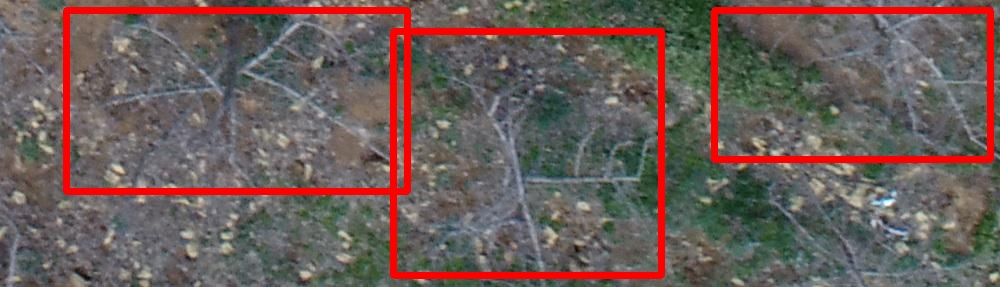apple: (393, 31, 661, 275), (66, 10, 407, 191), (714, 10, 990, 159)
